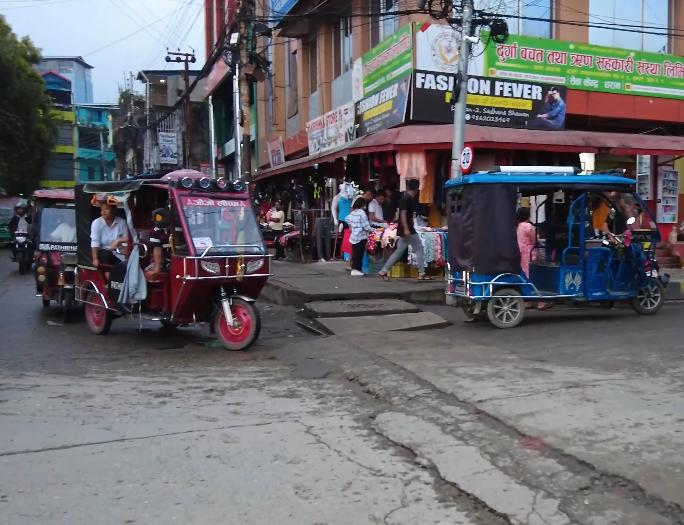e-rickshaw: (58, 160, 268, 355), (435, 162, 670, 336), (30, 181, 88, 320)
